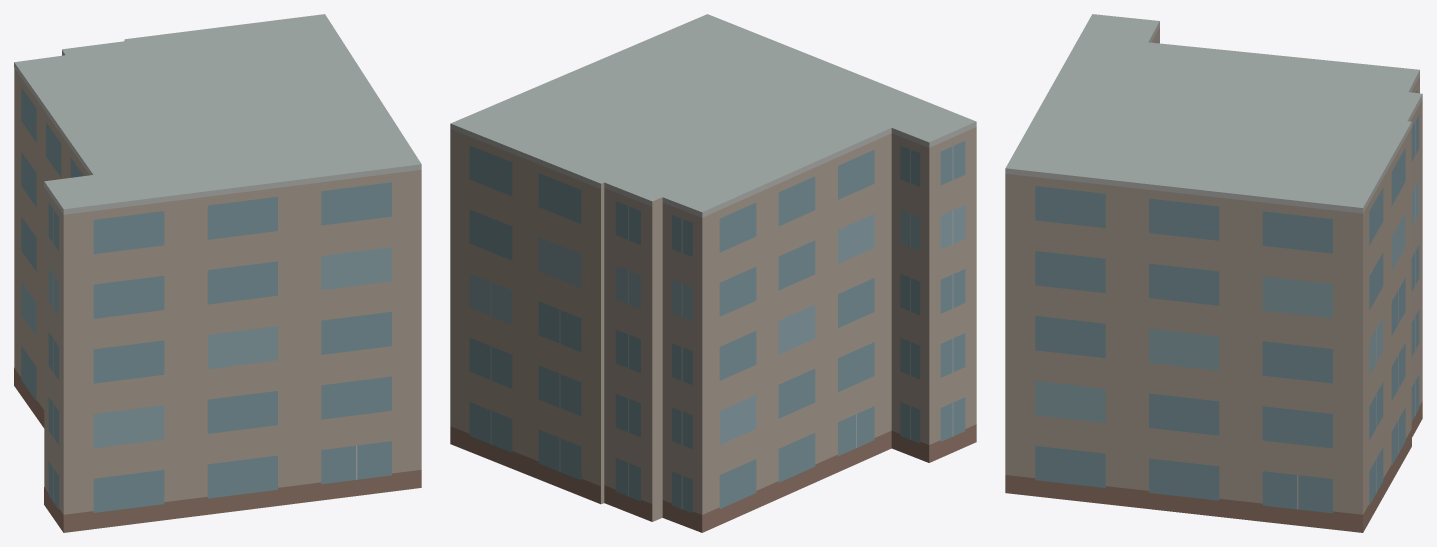
File: survey-upis-32640065.glb
3 views of the same model, side by side, from view 1: azimuth 30°, elevation 25°; view 2: azimuth 150°, elevation 25°; view 3: azimuth 270°, elevation 25° (orthographic).
Parts seen in each view (by area): view 1: survey-upis-32640065.tmp; view 2: survey-upis-32640065.tmp; view 3: survey-upis-32640065.tmp.
Part boxes in pixels (bbox=[...]): survey-upis-32640065.tmp: bbox=[14, 14, 421, 532]; survey-upis-32640065.tmp: bbox=[450, 14, 976, 532]; survey-upis-32640065.tmp: bbox=[1005, 14, 1422, 532].
Size of the model in its own units: 18.46 by 14.4 by 16.77.
